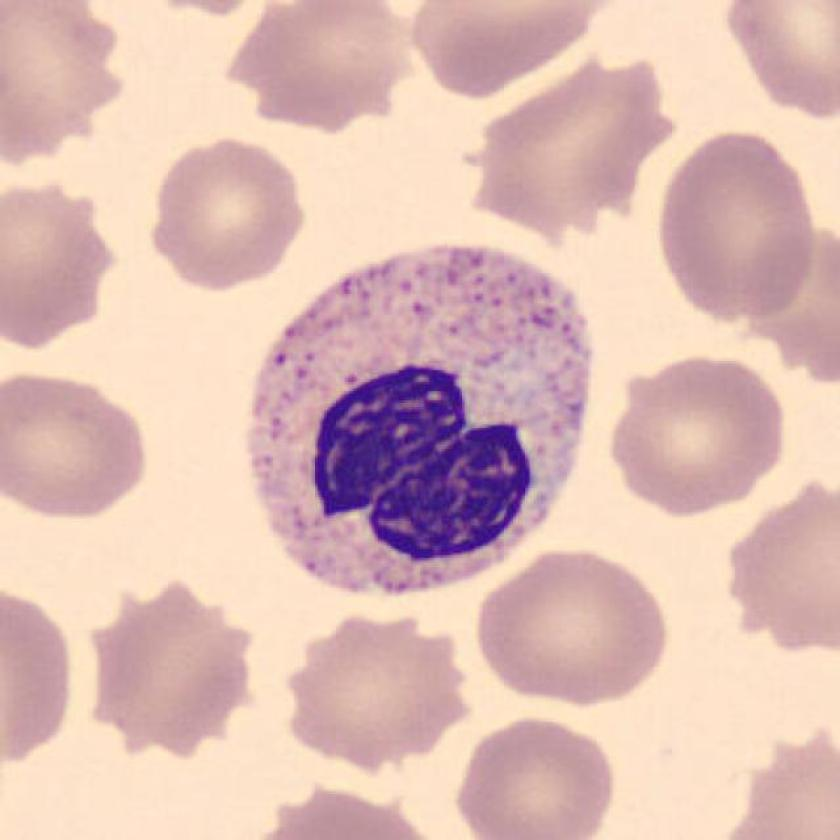neutrophil: (248, 245, 593, 598)
